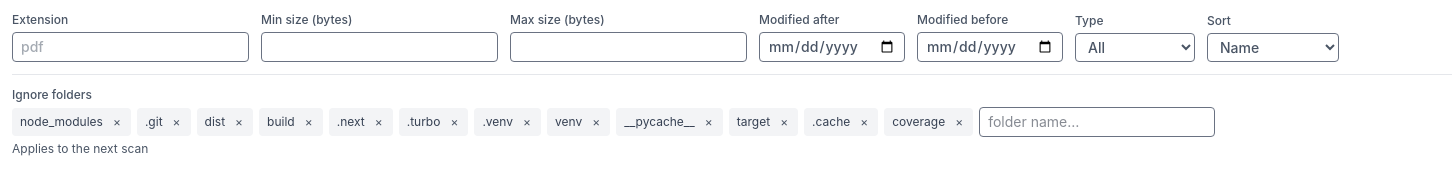
Test: FiltersPanel › adding a pattern updates the list and does not post a scan message
Type "my-cache" into the field named "add ignore pattern".
click(1097, 122); type("my-cache")  # box [979, 107, 1215, 137]
Then press Enter
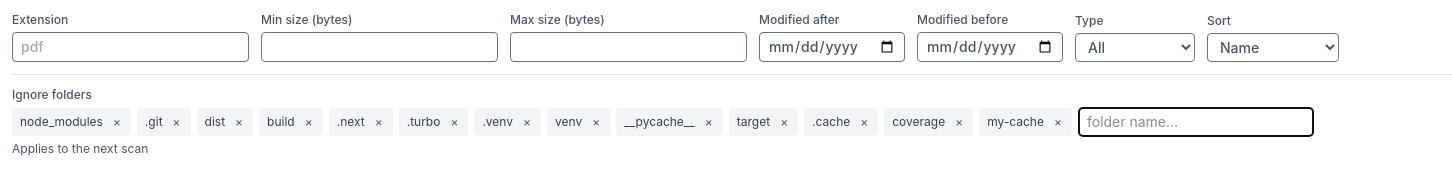
Result: the text "my-cache" is shown at [987, 114, 1044, 129]
